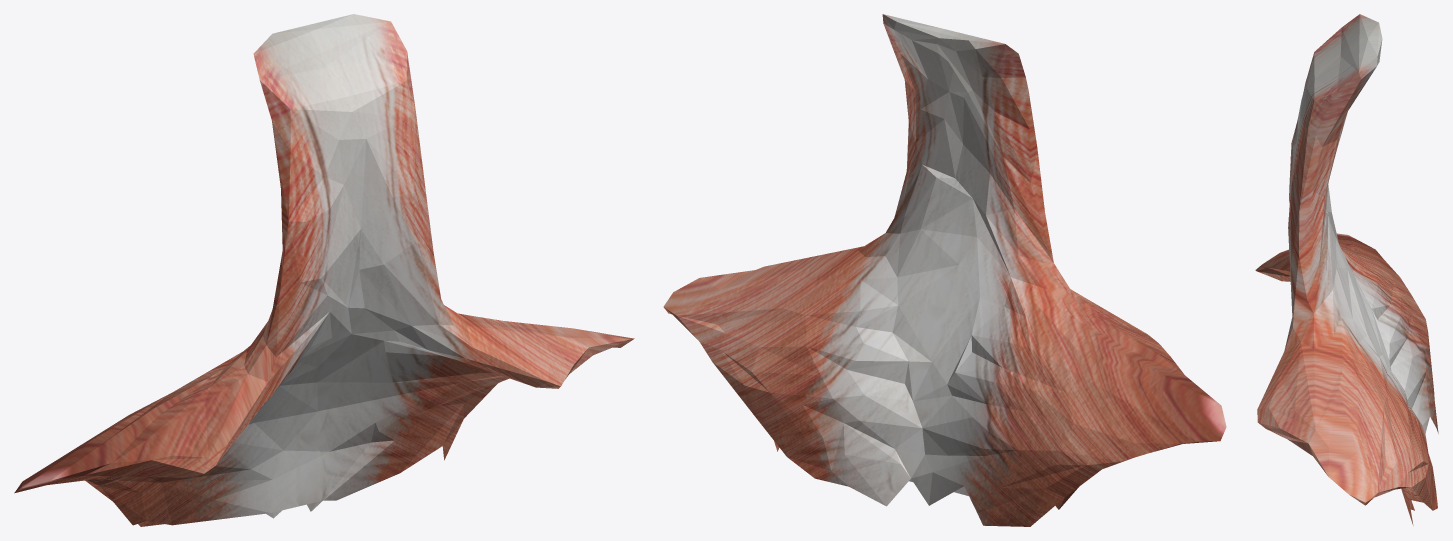
Rendered from Trapesius.obj.
3 views of the same model, side by side, from view 1: azimuth 30°, elevation 25°; view 2: azimuth 150°, elevation 25°; view 3: azimuth 270°, elevation 25° (orthographic). The views are drawn at different scales.
Parts seen in each view (by area): view 1: Musculos_Cabeza_1:Trapezius:Trapezius; view 2: Musculos_Cabeza_1:Trapezius:Trapezius; view 3: Musculos_Cabeza_1:Trapezius:Trapezius.
Boxes of the visible parts, box(x1,y1,x2,y2) form: Musculos_Cabeza_1:Trapezius:Trapezius: box(14, 14, 634, 526); Musculos_Cabeza_1:Trapezius:Trapezius: box(663, 14, 1226, 526); Musculos_Cabeza_1:Trapezius:Trapezius: box(1255, 14, 1438, 525).
Size of the model in its own units: 1.43 by 1.14 by 0.4251.
1 material, 1 textured.
